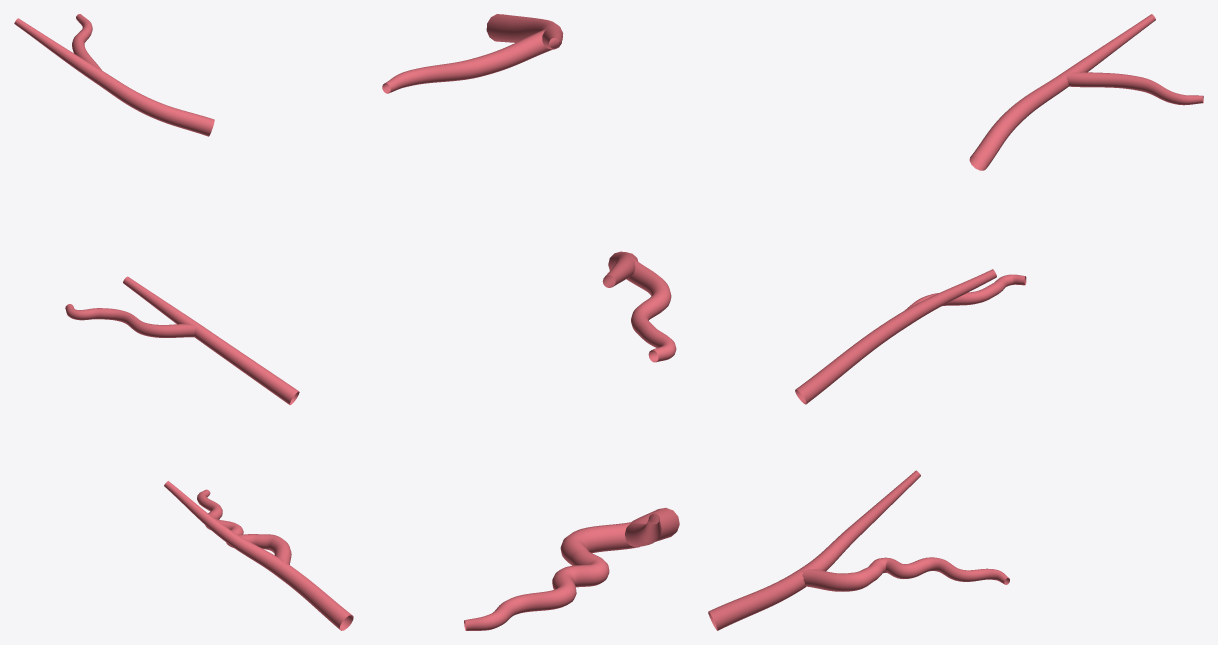
3 views of the same model, side by side, from view 1: azimuth 30°, elevation 25°; view 2: azimuth 150°, elevation 25°; view 3: azimuth 270°, elevation 25° (orthographic). The views are drawn at different scales.
Parts seen in each view (by area): view 1: ZA_ebb7bbde518eac99; view 2: ZA_ebb7bbde518eac99; view 3: ZA_ebb7bbde518eac99.
Boxes of the visible parts, box(x1,y1,x2,y2) form: ZA_ebb7bbde518eac99: box(14, 14, 353, 630); ZA_ebb7bbde518eac99: box(382, 14, 679, 630); ZA_ebb7bbde518eac99: box(708, 14, 1203, 630).
Bounding box in the file's own units: 0.0123 × 0.0391 × 0.0321.
